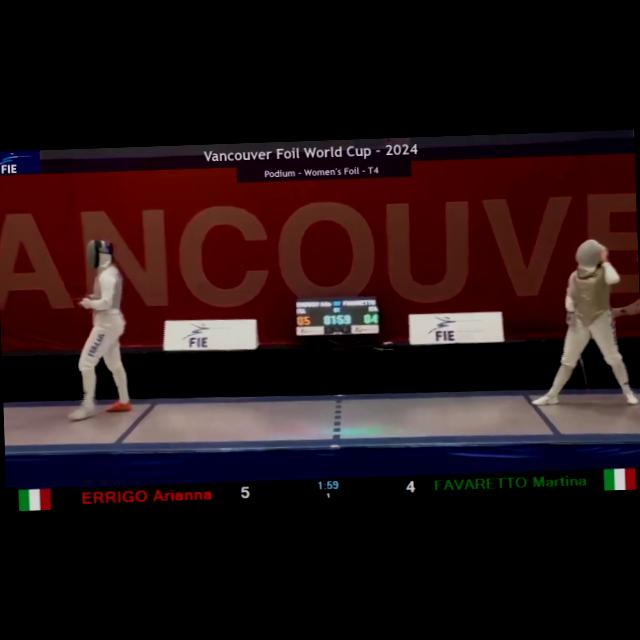blade: (566, 314, 593, 404)
